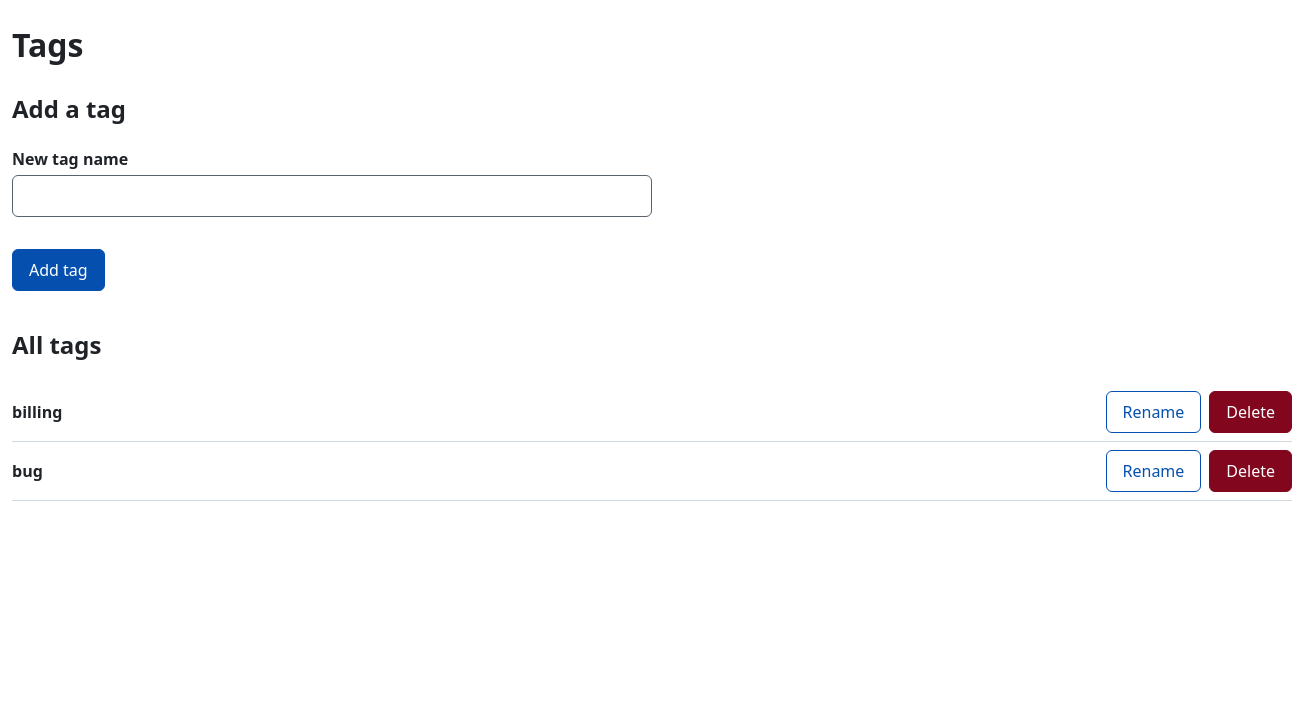
Test: TagsPage › keeps the rename form open when the new name is taken
Expected: the text "billing" is shown, [12,401,62,423]
Click the button with aria-label "Rename billing".
click(1153, 412)  # box [1106,391,1201,433]
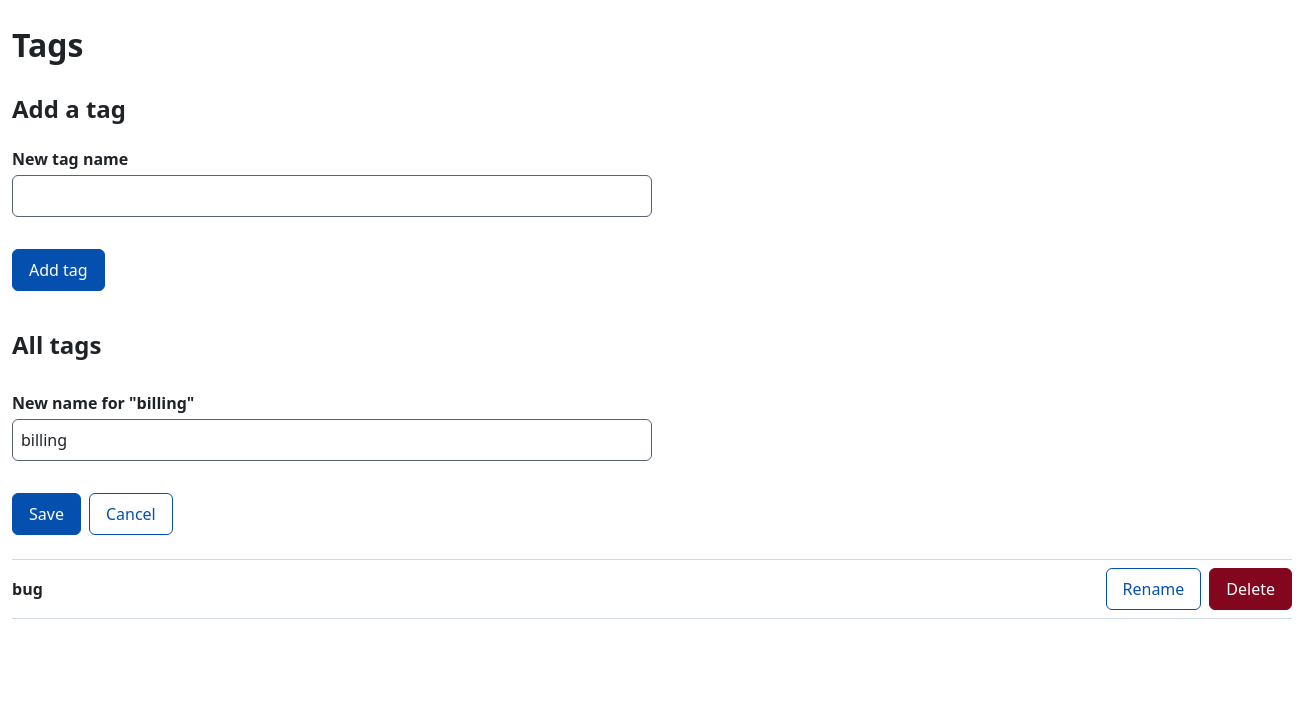
Replace the text in the field labelled "New name for \"billing\"" with "bug" at [332, 440], box [12,419,652,461]
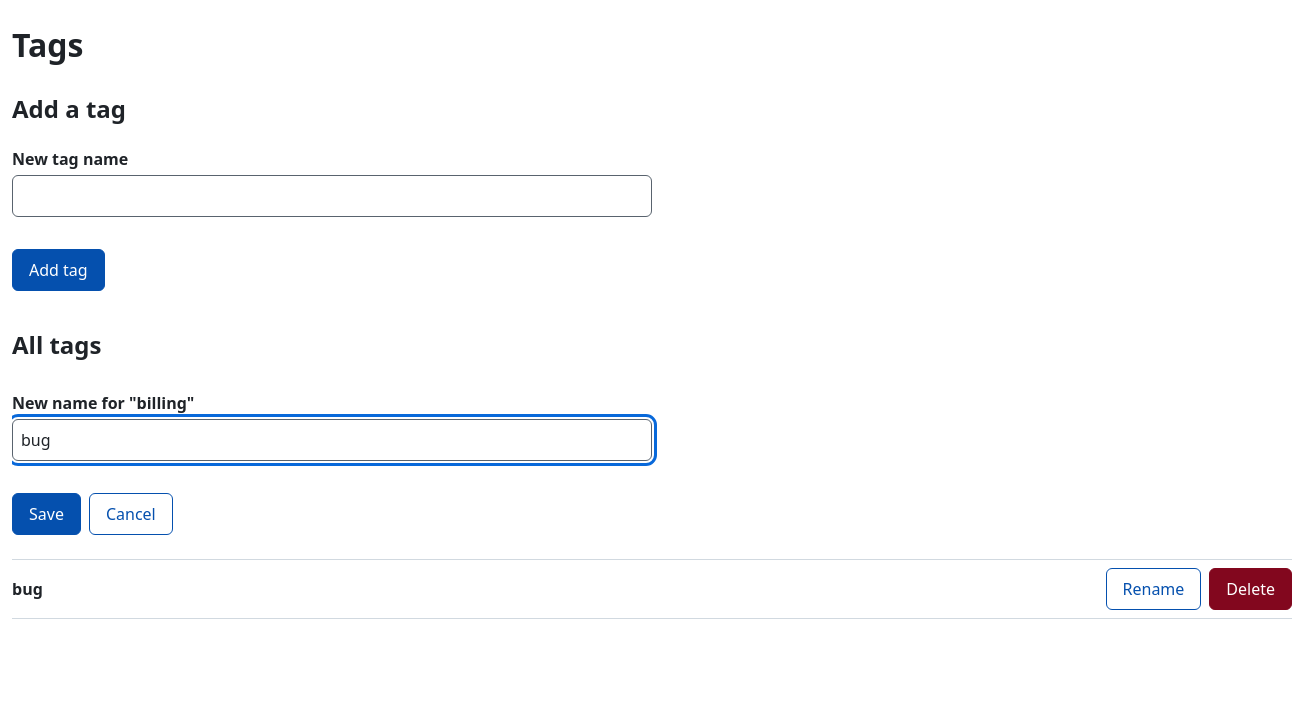
Click the button "Save".
click(46, 514)  # box [12,493,81,535]
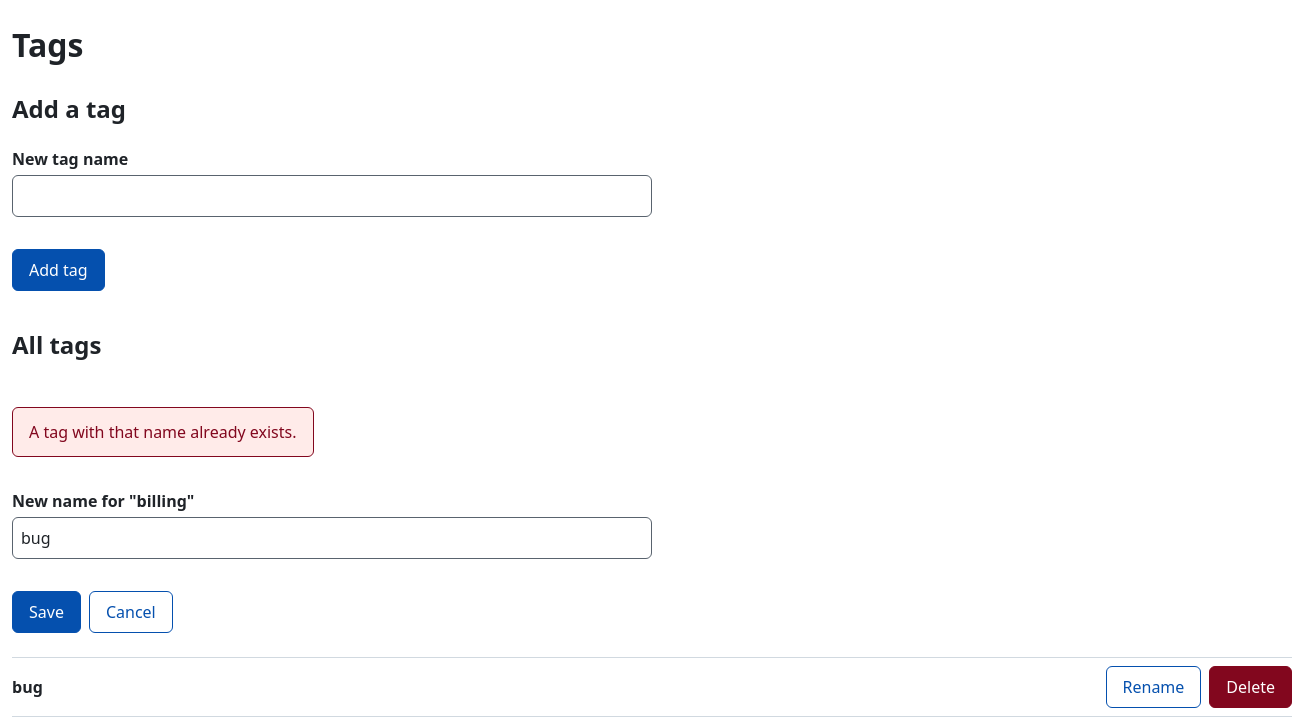
Now the message reads "A tag with that name already exists.", box [29,421,296,443]
